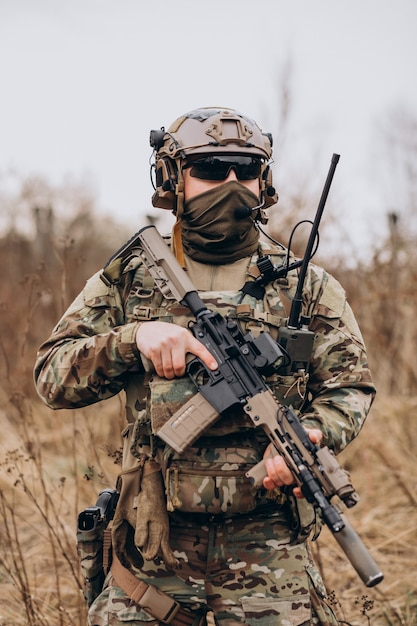gun: (133, 223, 386, 586)
